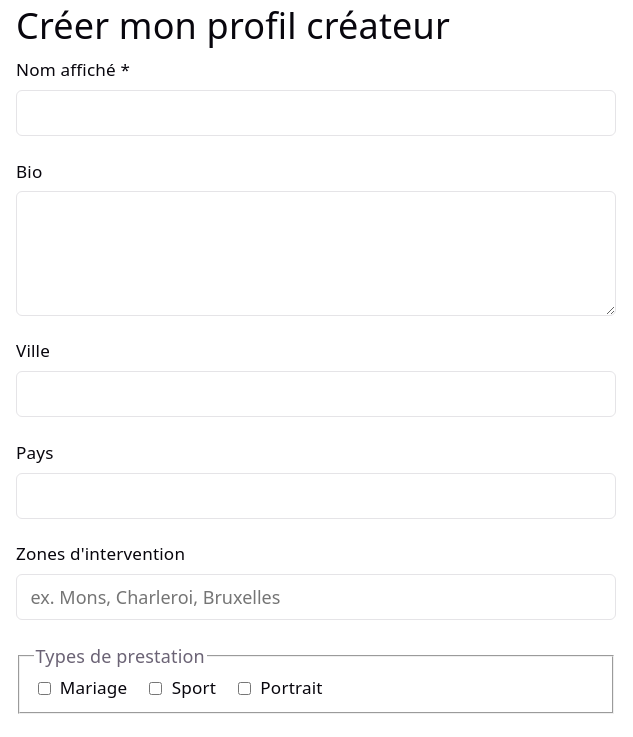
MonProfilCreateur : types de prestation (#87) › à la création, enregistre les types après le profil
The image size is (633, 737).
Type "Alice" into the field labelled "Nom affiché *".
click(316, 113); type("Alice")  # box [16,90,616,136]
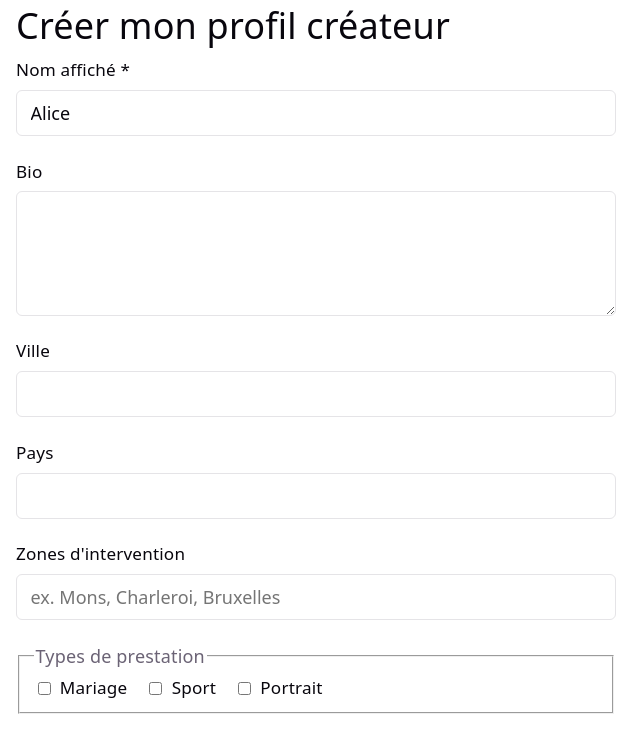
Click the checkbox labelled "Sport".
click(156, 688)  # box [149,682,162,694]
(page scrolled)
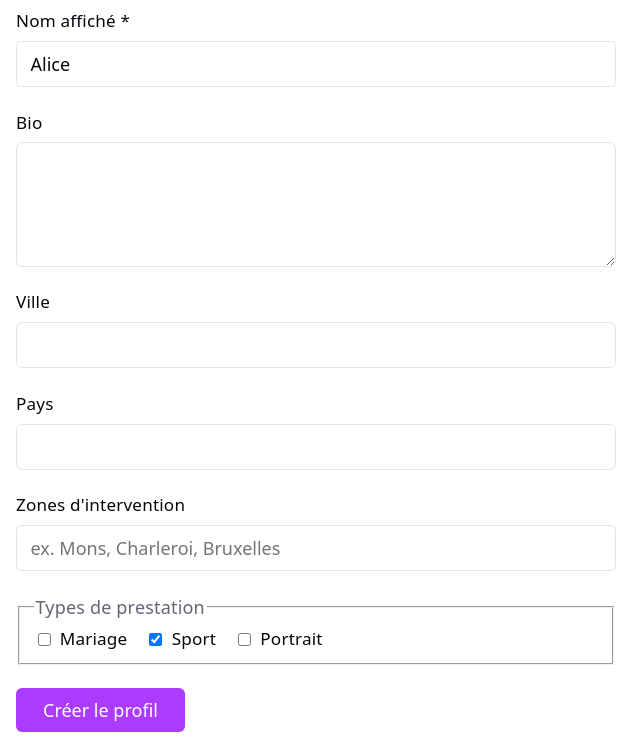
Click the button "Créer le profil".
click(100, 710)  # box [16,688,185,732]
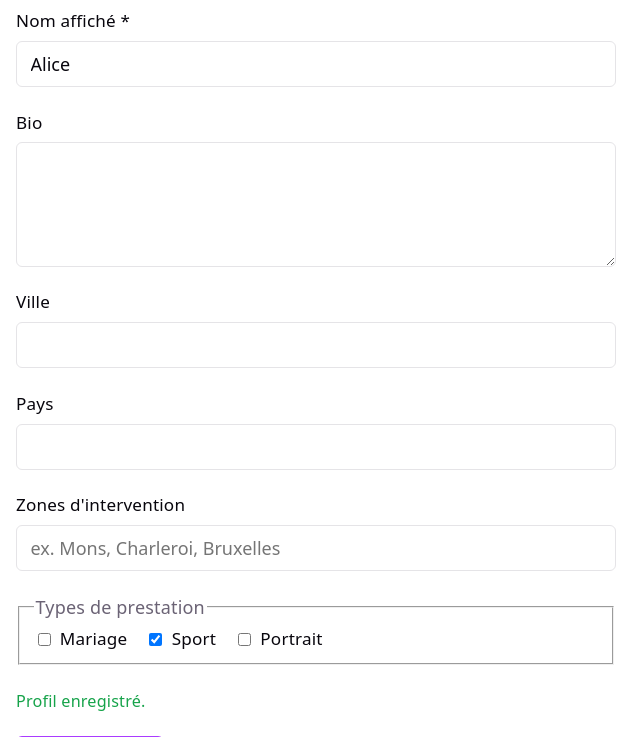
Expected: the text "Profil enregistré." is shown, [16,690,146,712]
